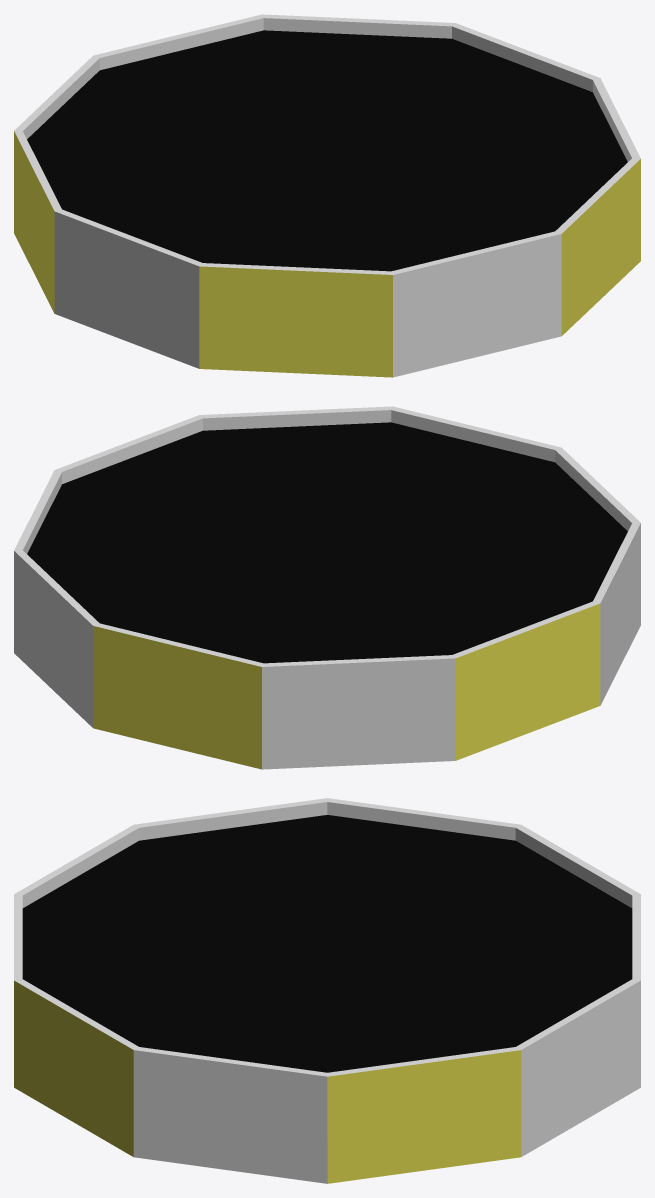
Rendered from IceBucketLid.fbx.
3 renders of one model, top to bottom at view 1: azimuth 30°, elevation 25°; view 2: azimuth 150°, elevation 25°; view 3: azimuth 270°, elevation 25°, orthographic. The views are drawn at different scales.
Visible parts, largest first — view 1: IceBucketLid; view 2: IceBucketLid; view 3: IceBucketLid.
Part boxes in pixels (x1,y1,x2,y2): IceBucketLid: (14,14,640,377); IceBucketLid: (14,406,640,769); IceBucketLid: (14,798,640,1183).
Bounding box in the file's own units: 30.01 × 5.38 × 28.54.
